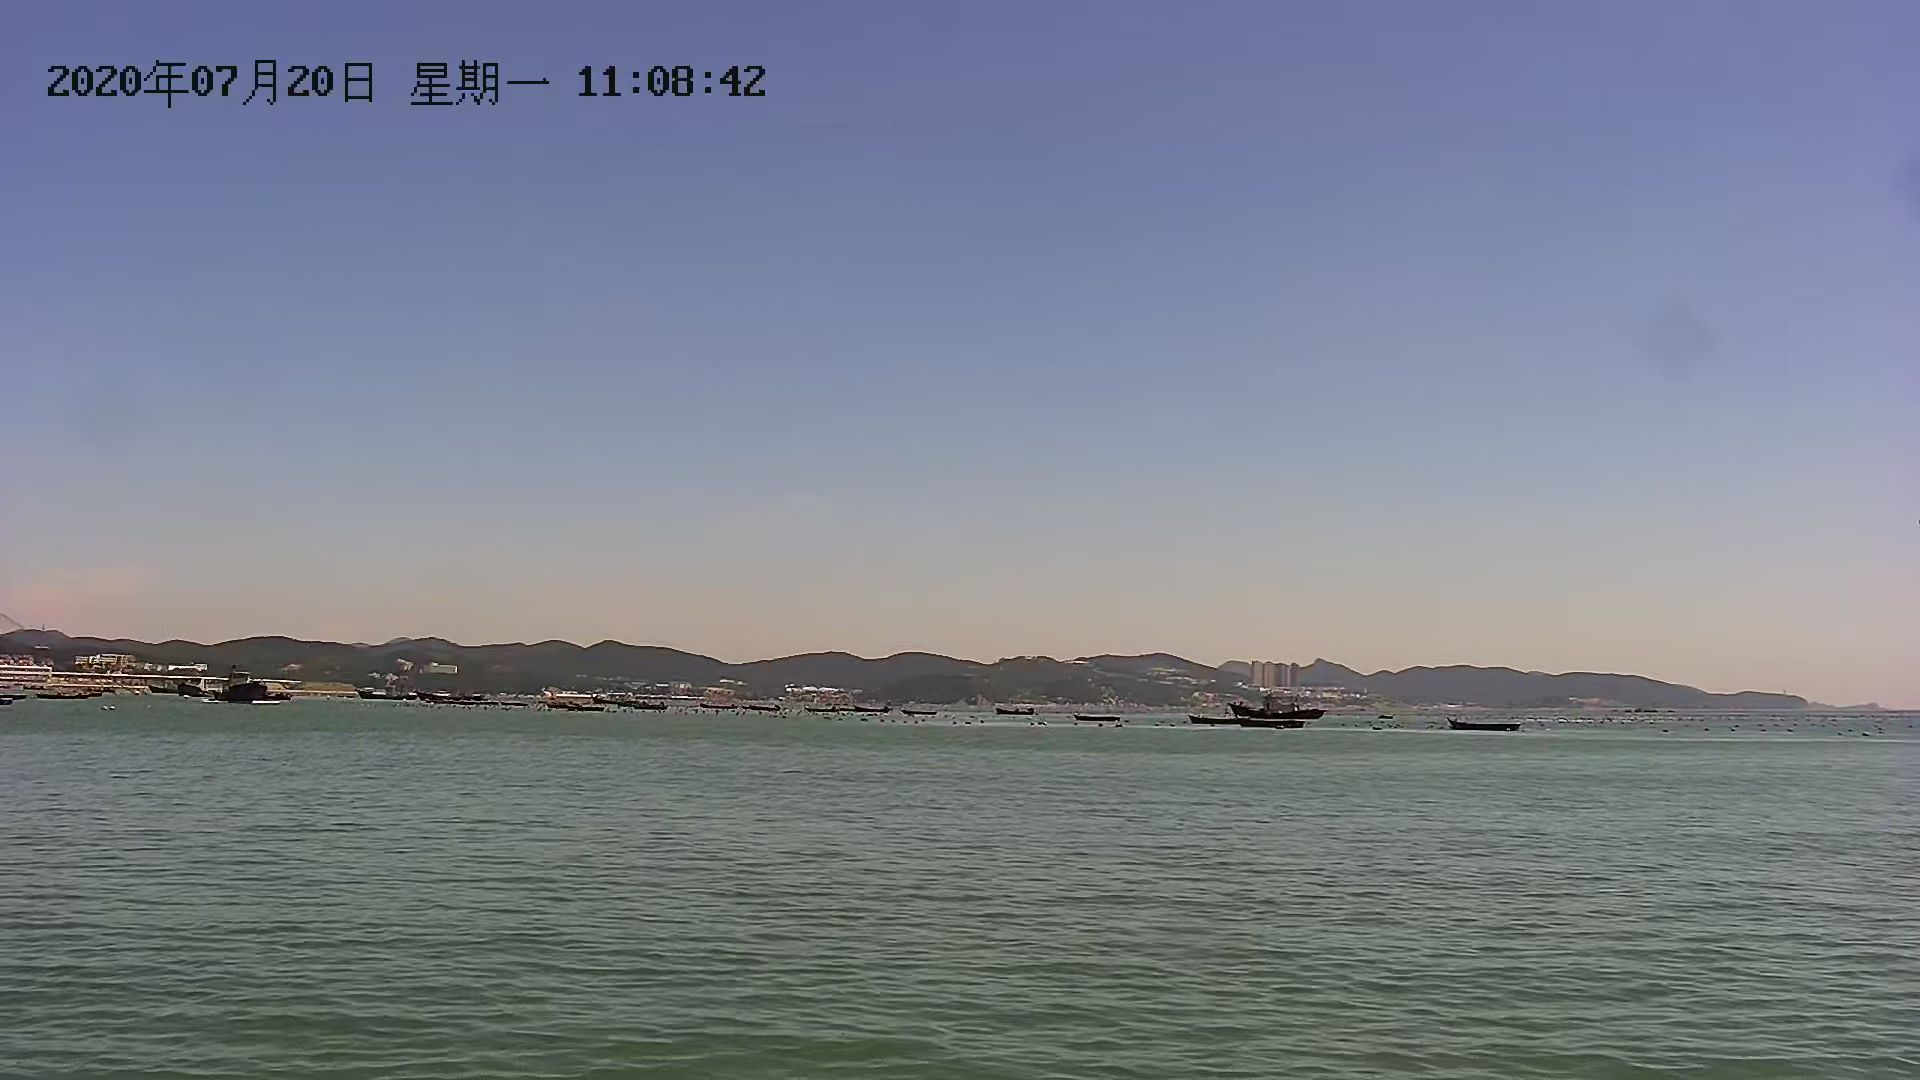boat: (1233, 704, 1323, 736), (1449, 715, 1522, 735)
